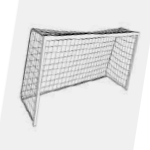goals: (19, 25, 141, 125)
